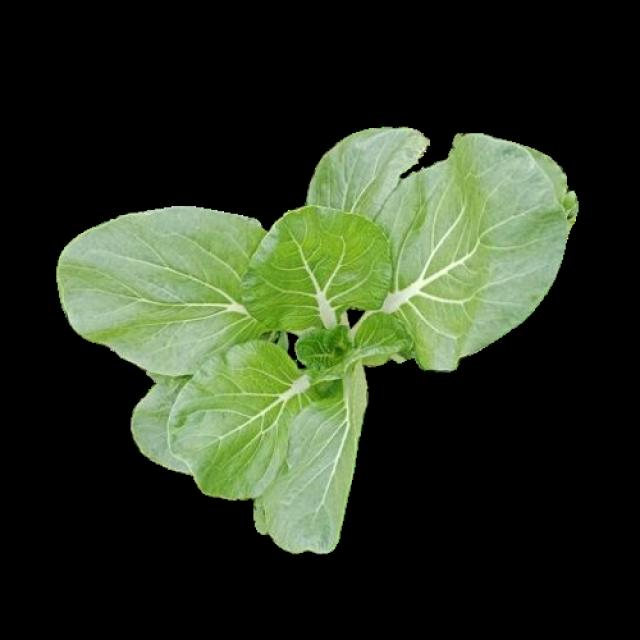healthy: (56, 125, 570, 548)
mature: (59, 128, 572, 550)
